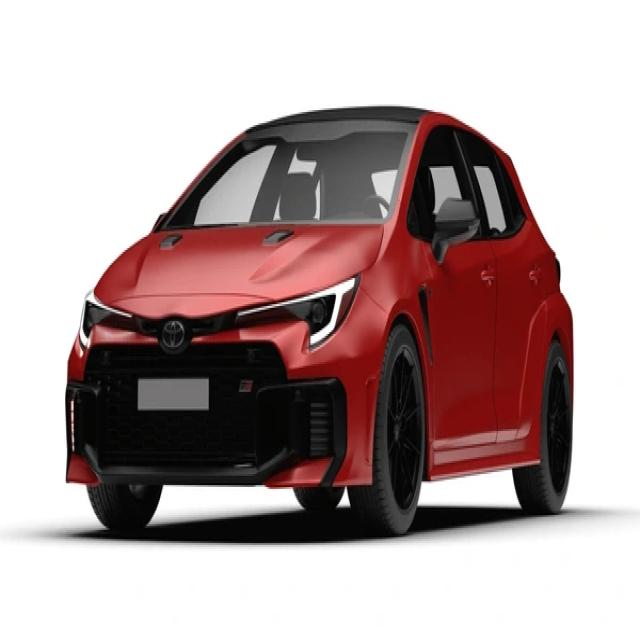toyota: (160, 319, 187, 349)
